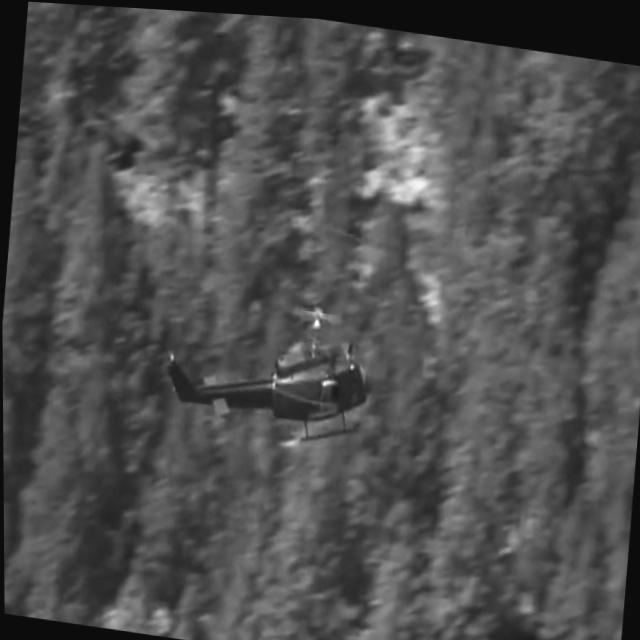helikopter: (143, 279, 409, 474)
